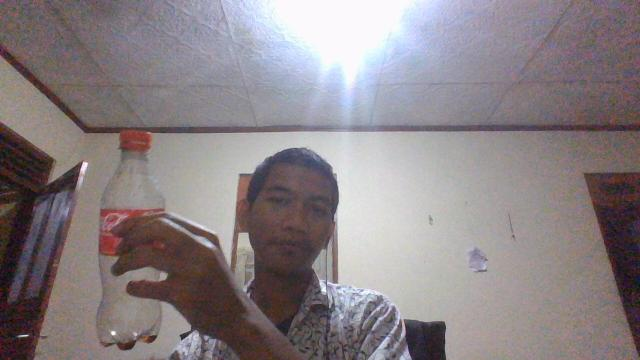coca-cola: (95, 128, 167, 350)
